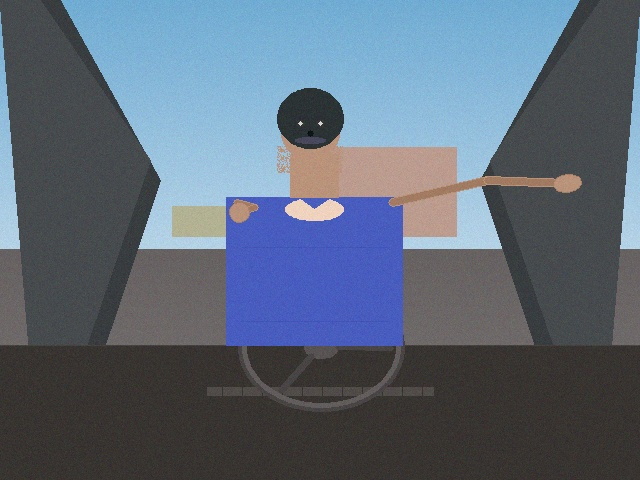hands_off_wheel: (547, 164, 588, 202)
